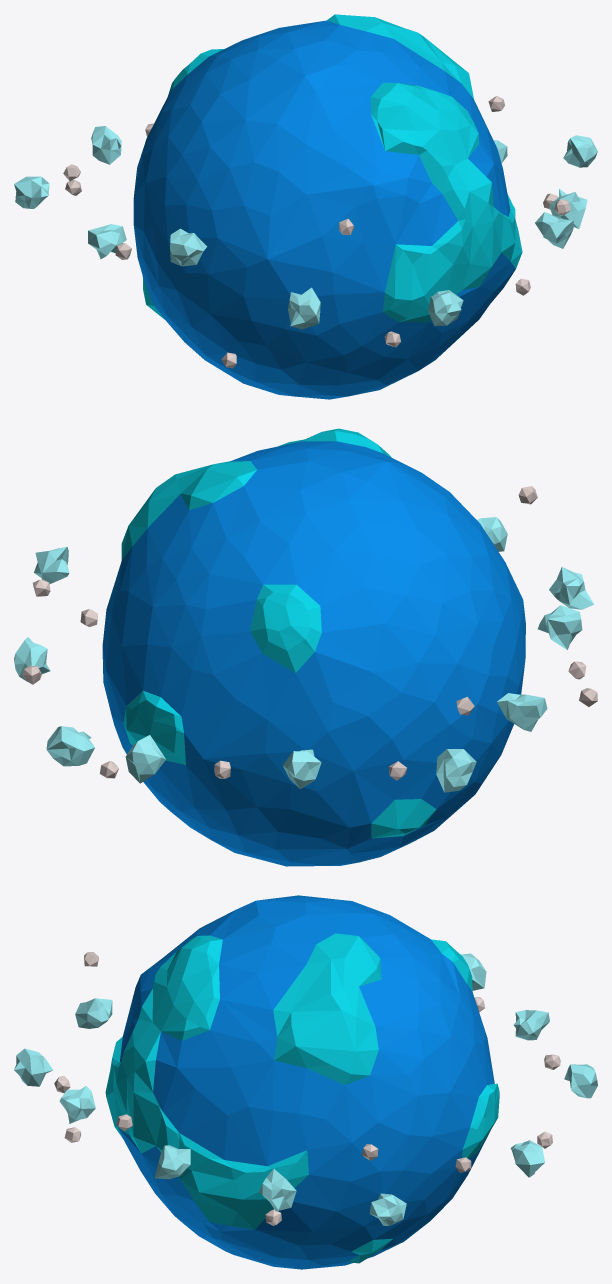
File: PlanetOrbitalWaste-transformed.glb
3 views of the same model, one above another, from view 1: azimuth 30°, elevation 25°; view 2: azimuth 150°, elevation 25°; view 3: azimuth 270°, elevation 25° (orthographic). The views are drawn at different scales.
Parts seen in each view (by area): view 1: Planet_28; view 2: Planet_28; view 3: Planet_28.
Part boxes in pixels (x1,y1,x2,y2): Planet_28: [14, 14, 597, 399]; Planet_28: [14, 428, 597, 866]; Planet_28: [14, 895, 597, 1269].
Size of the model in its own units: 29.83 by 20.03 by 31.28.
Materials: 1 (1 with a texture image).
